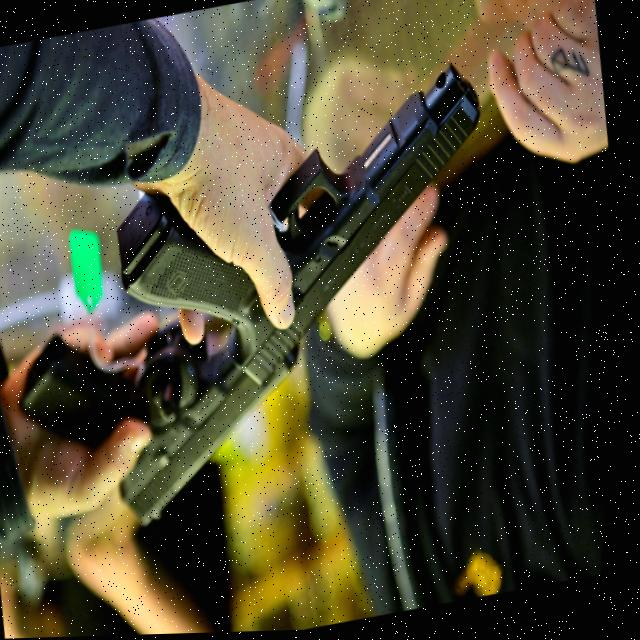pistol: (93, 62, 523, 409), (8, 320, 322, 554)
